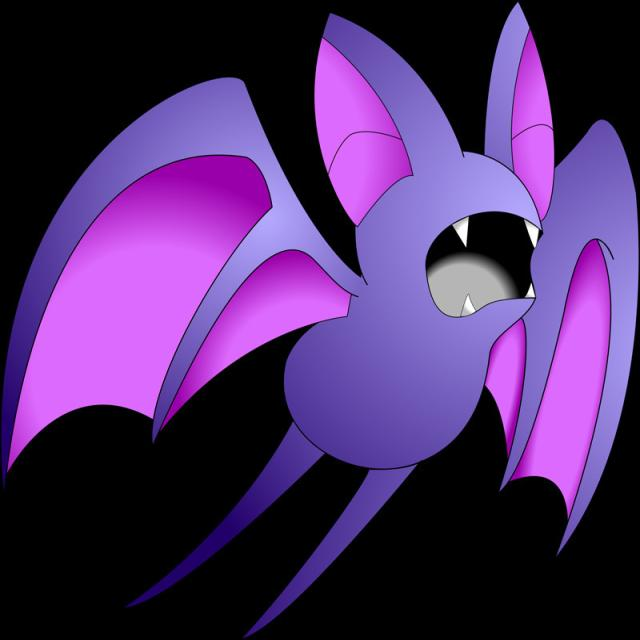Zubat: (114, 6, 640, 472)
